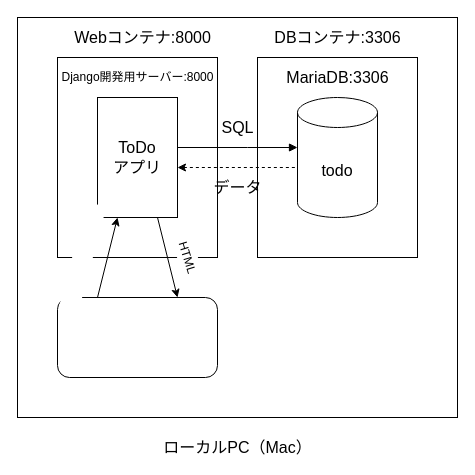
Image size: 475x475. Some labels were removed from this diagram. The centre of each missing label's shape, as x and y in pixels:
"HTTPリクエスト" belongs at (82,257).
"Webブラウザ （Chrome, Safali,...）" belongs at (137,337).
